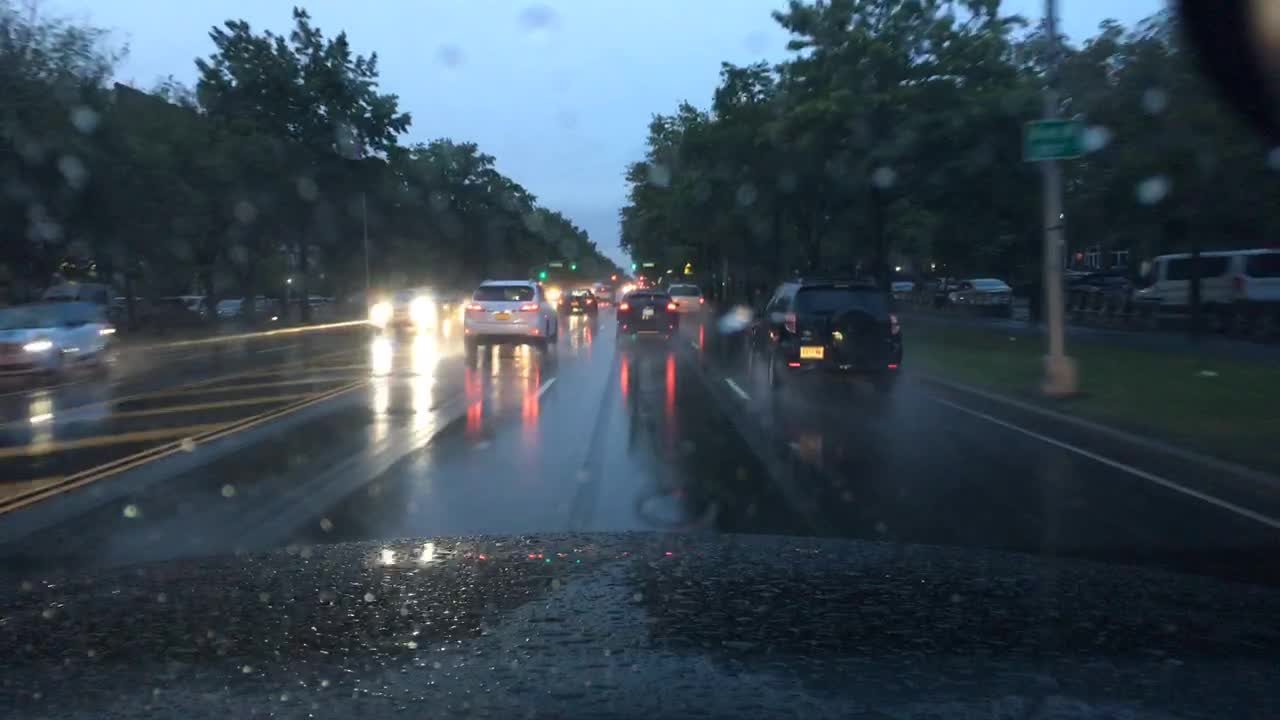car: (744, 275, 903, 388), (0, 300, 137, 378), (1116, 247, 1278, 310), (459, 278, 557, 349), (43, 279, 127, 329), (614, 284, 678, 339), (369, 283, 437, 327), (943, 274, 1013, 308), (716, 303, 759, 352), (664, 281, 707, 319), (558, 289, 597, 316), (163, 296, 214, 316), (437, 290, 468, 321), (1067, 268, 1104, 289), (214, 300, 242, 321), (254, 298, 283, 318), (889, 279, 920, 297), (307, 293, 341, 309), (597, 283, 617, 304), (620, 280, 655, 292), (542, 283, 561, 303)
traffic light: (535, 269, 549, 281), (566, 260, 575, 272), (627, 260, 635, 272), (609, 272, 615, 284)
traffic sign: (1021, 120, 1085, 158), (679, 263, 692, 275)
